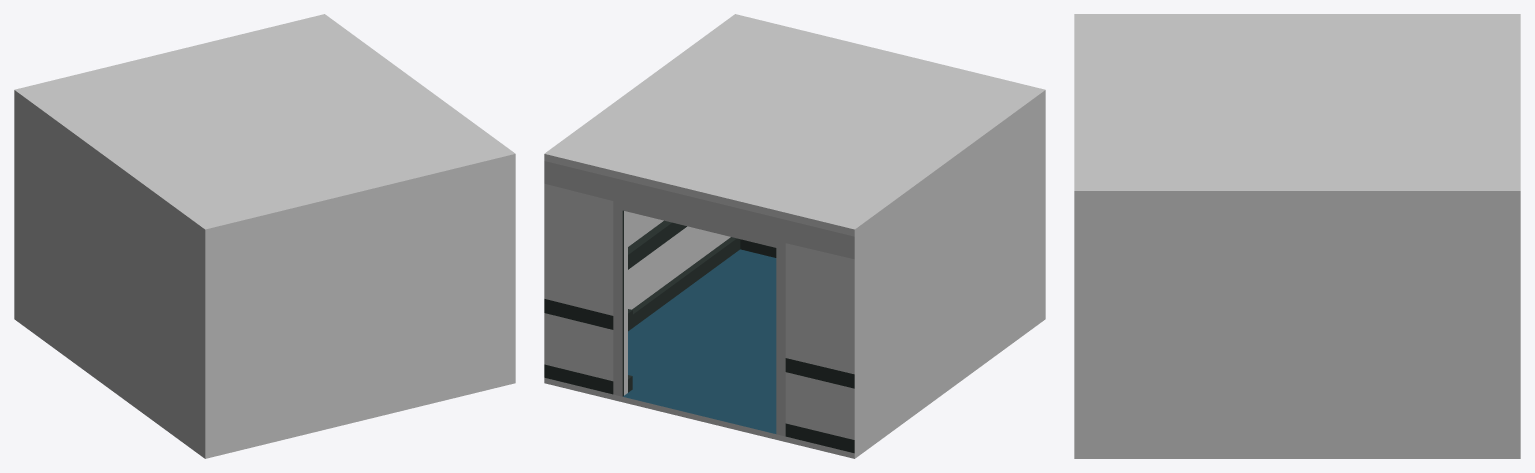
File: Elevator.fbx
3 renders of one model, left to right at view 1: azimuth 30°, elevation 25°; view 2: azimuth 150°, elevation 25°; view 3: azimuth 270°, elevation 25°, orthographic. The views are drawn at different scales.
Visible parts, largest first — view 1: Elevator; view 2: Elevator; view 3: Elevator.
Part boxes in pixels (x1,y1,x2,y2): Elevator: (14,14,515,458); Elevator: (544,14,1045,458); Elevator: (1074,14,1520,458).
Size of the model in its own units: 600 by 424 by 639.
